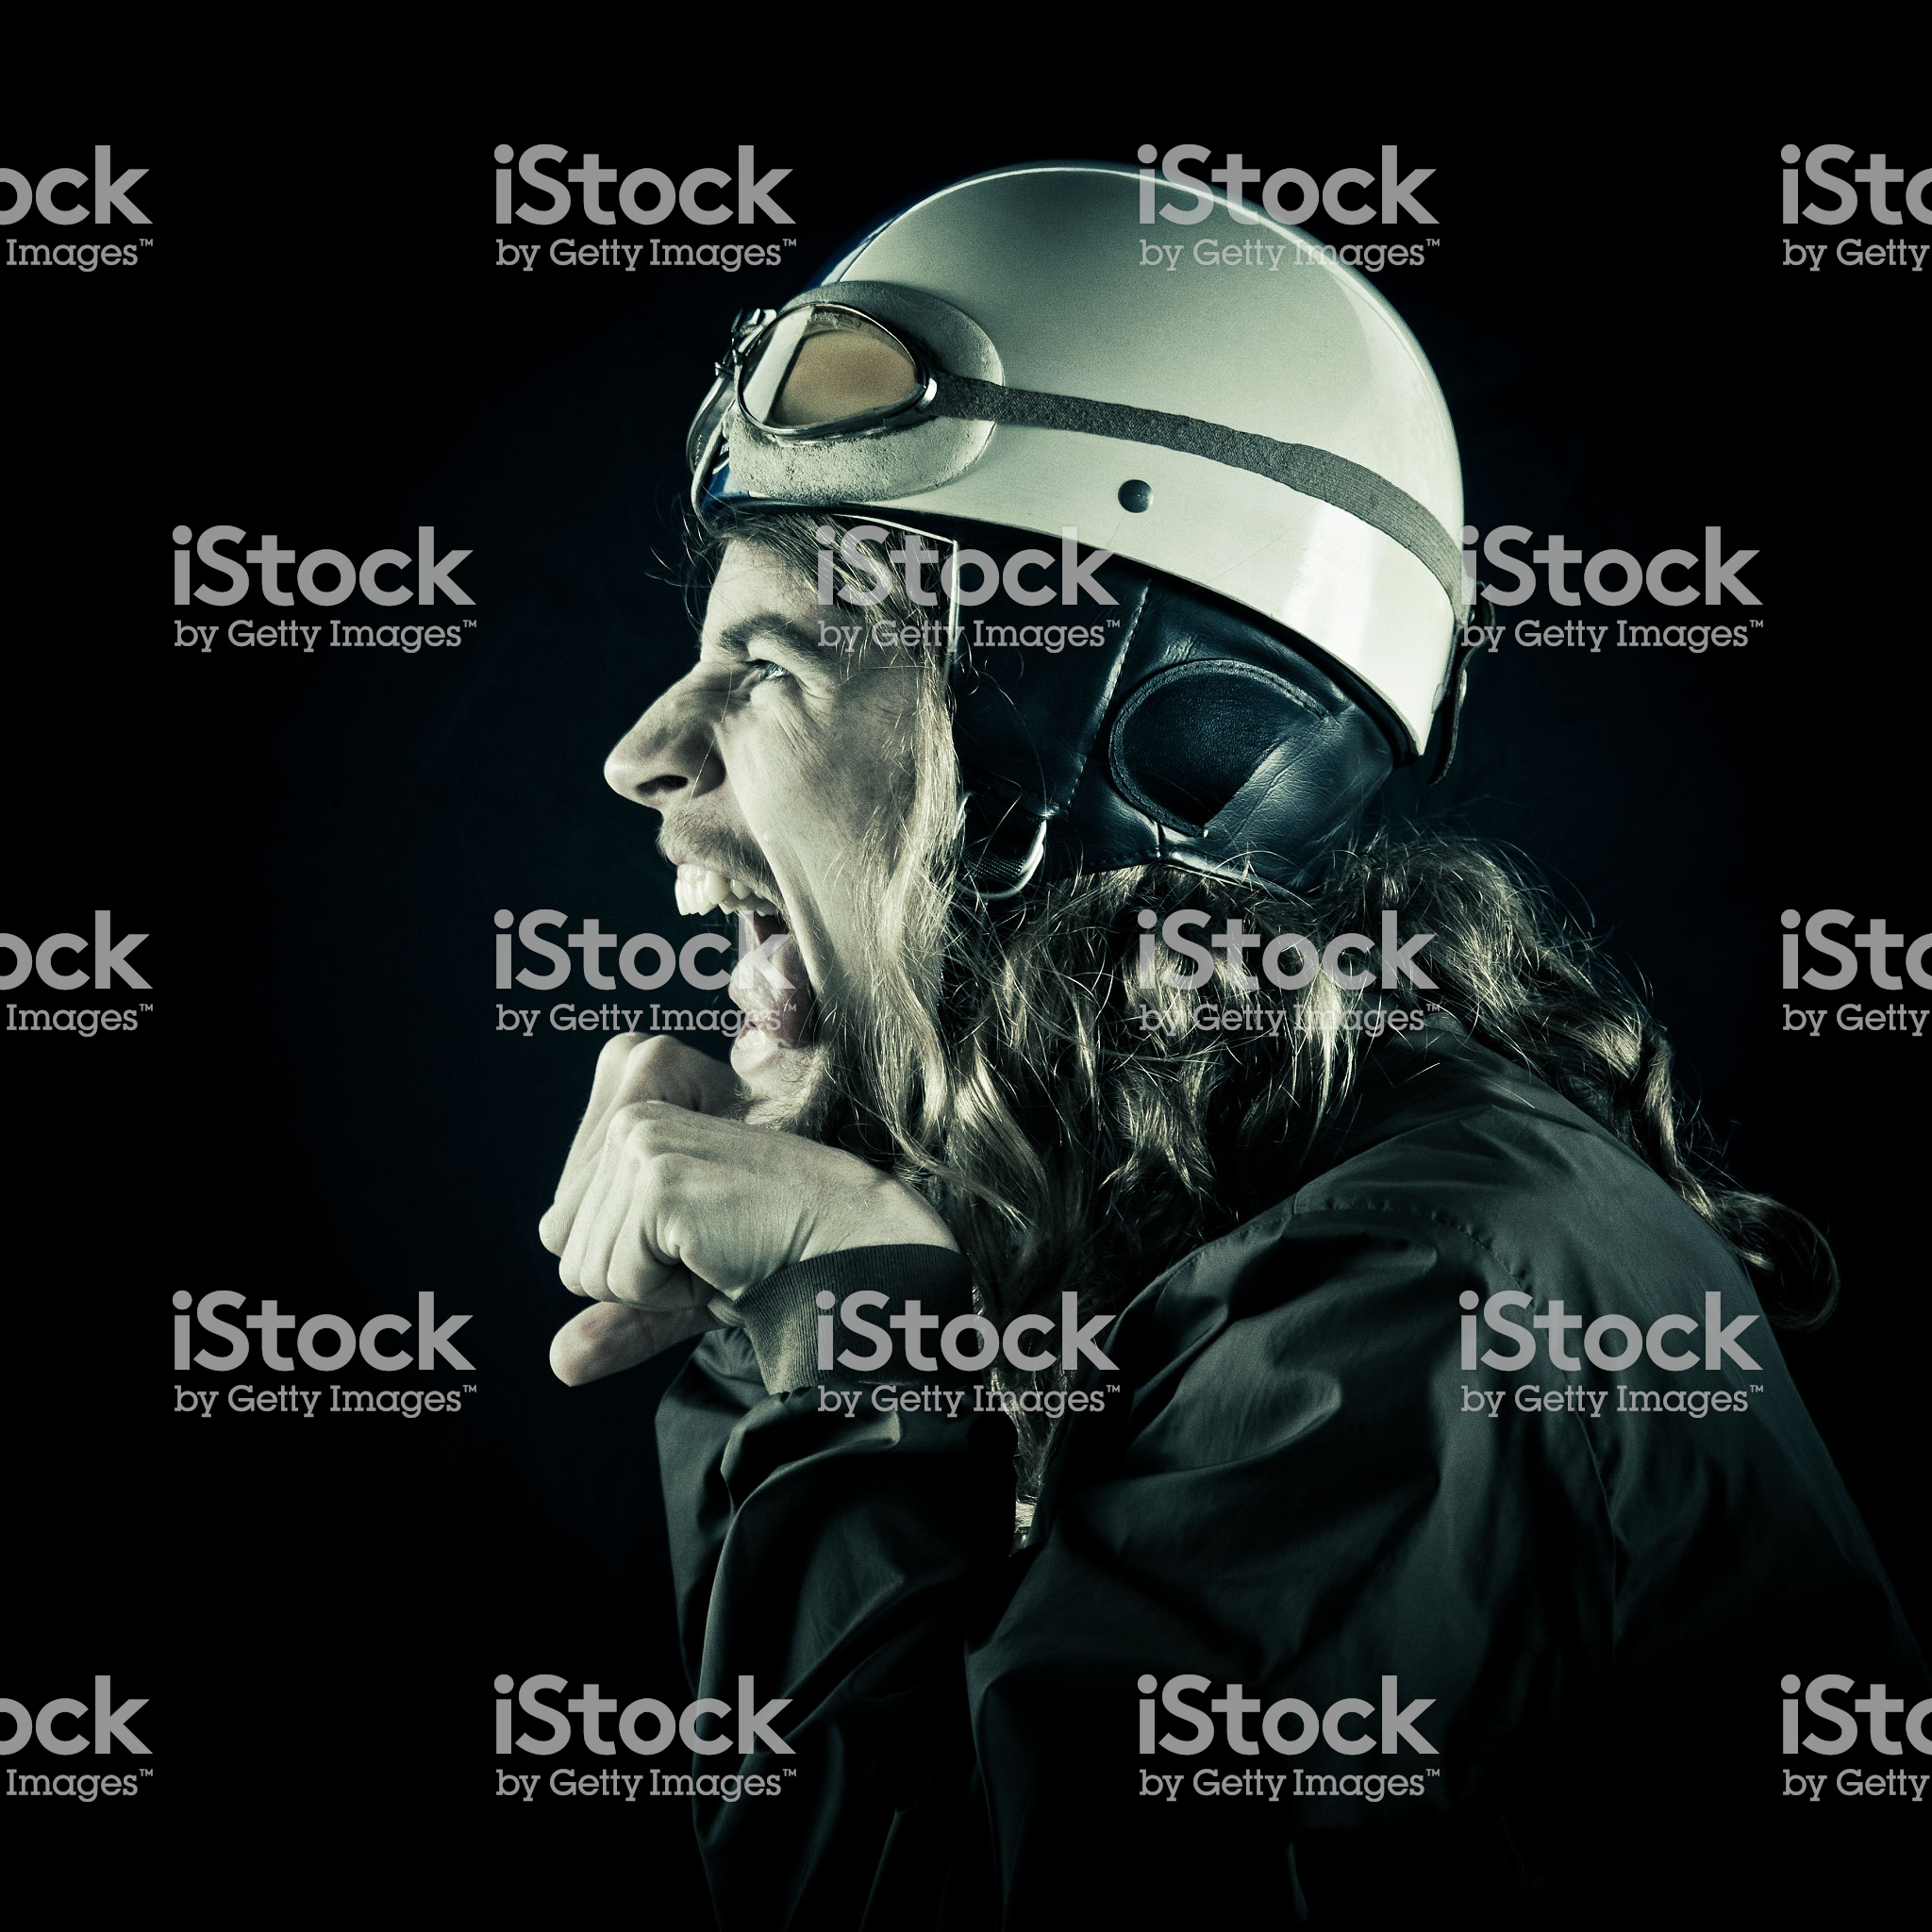helmet: (734, 163, 1552, 713)
